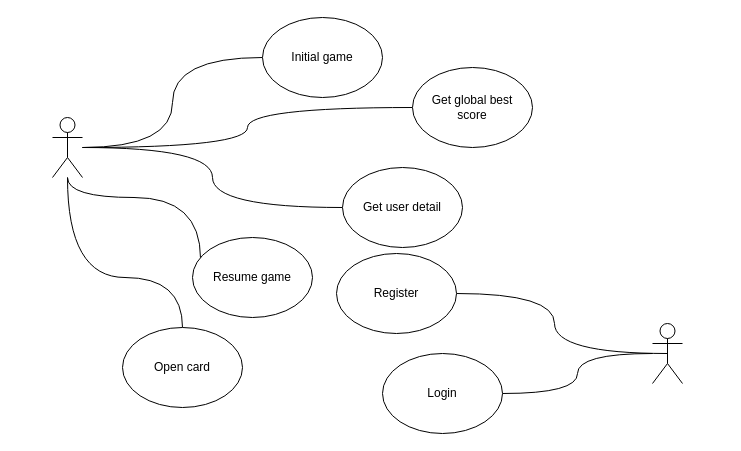
This 741x451 diagram has some shape labels left out. The shapes that lost their labels are listed below. From the top down, each one's centre as x and y in pixels, then its label:
point (67, 147): Authenticated user
point (667, 353): Unauthenticated user
